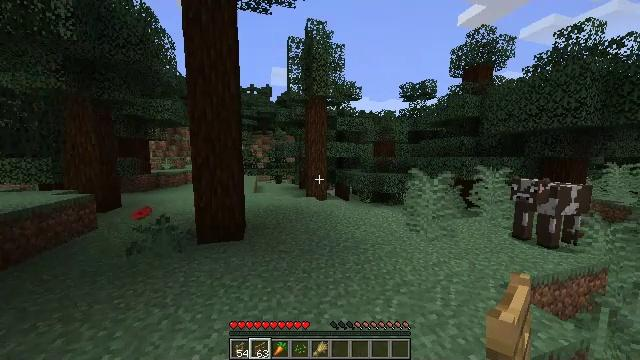cow: (512, 176, 591, 248)
